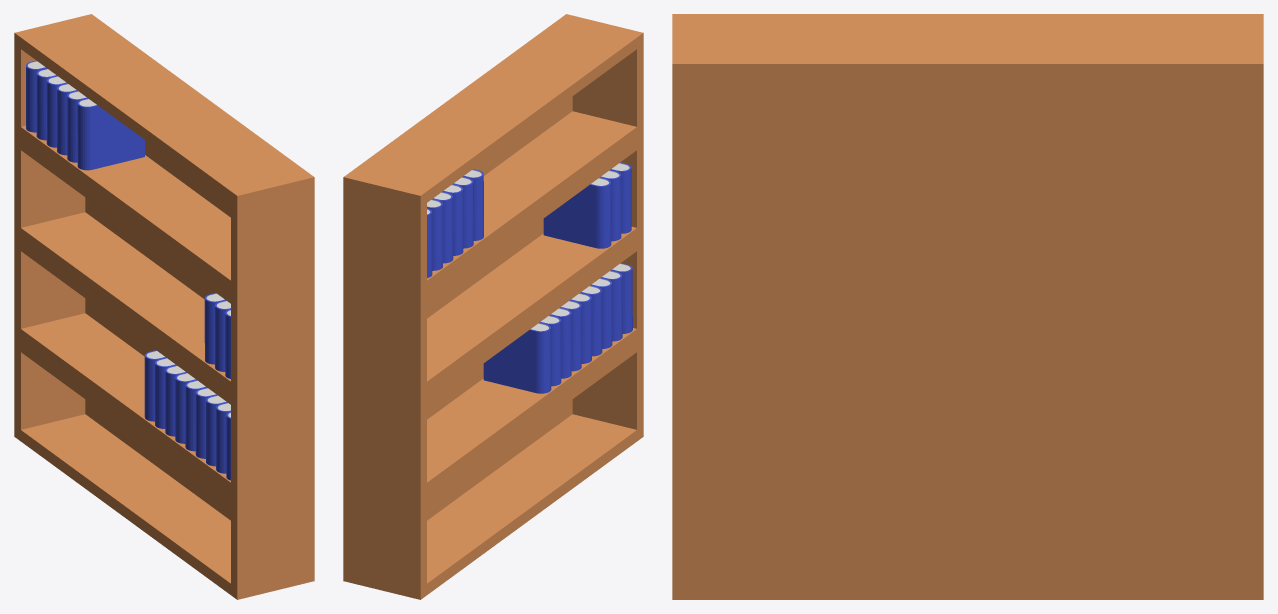
Rendered from libro.glb.
3 views of the same model, side by side, from view 1: azimuth 30°, elevation 25°; view 2: azimuth 150°, elevation 25°; view 3: azimuth 270°, elevation 25° (orthographic). The views are drawn at different scales.
Visible parts, largest first — view 1: Librero; view 2: Librero; view 3: Librero.
Boxes of the visible parts, left/top/right/bottom form: Librero: left=14, top=14, right=314, bottom=599; Librero: left=343, top=14, right=643, bottom=599; Librero: left=672, top=14, right=1263, bottom=599.
Bounding box in the file's own units: 0.67 × 3.35 × 3.35.
